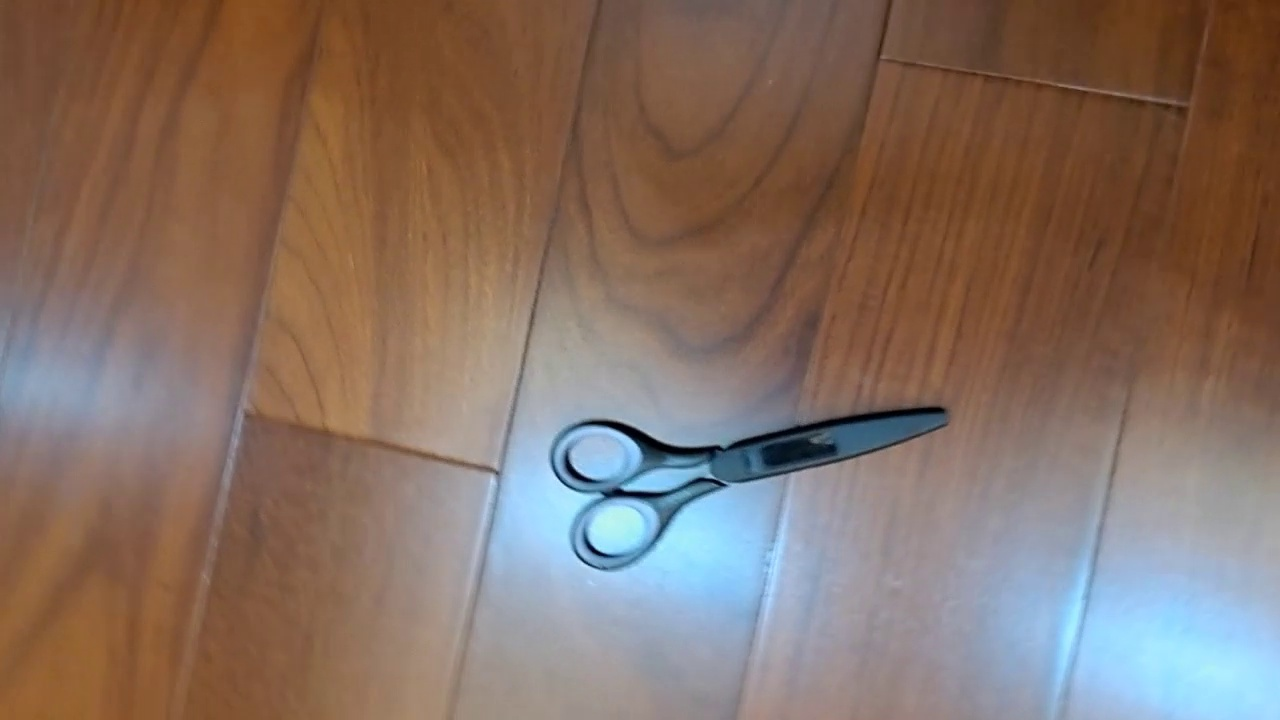scissors: (549, 404, 952, 572)
